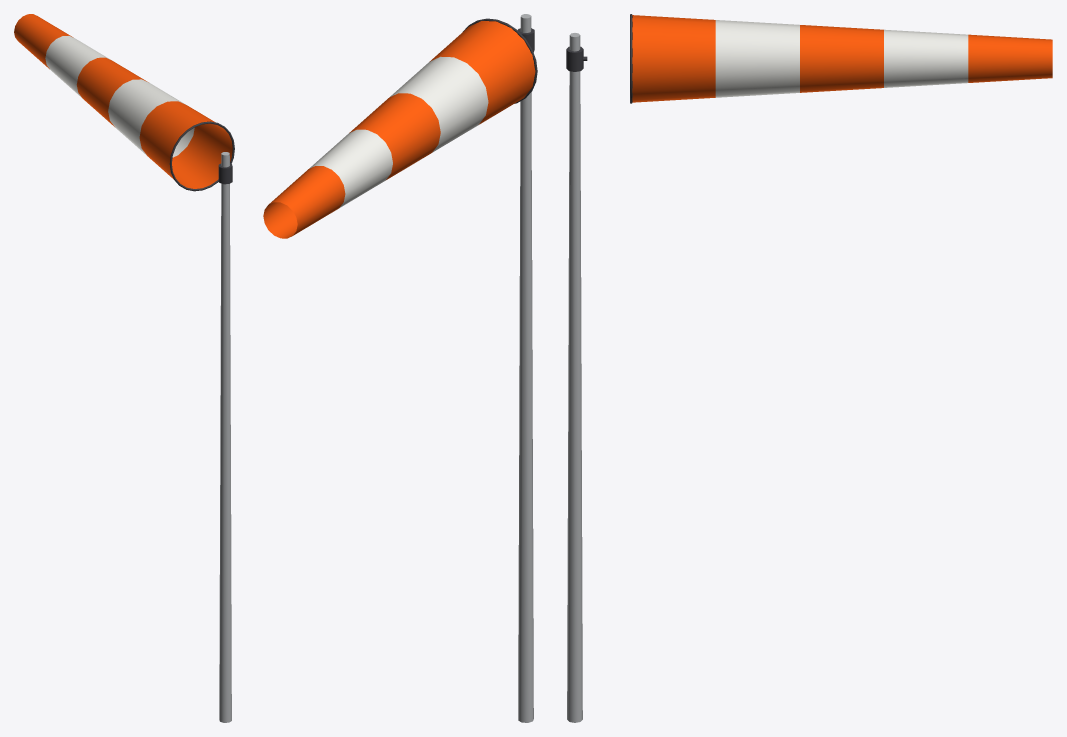
The model's file is windsock.glb.
3 views of the same model, side by side, from view 1: azimuth 30°, elevation 25°; view 2: azimuth 150°, elevation 25°; view 3: azimuth 270°, elevation 25° (orthographic). The views are drawn at different scales.
Parts seen in each view (by area): view 1: Sock, Mast; view 2: Sock, Mast; view 3: Sock, Mast.
Boxes of the visible parts, <box> form: Sock: <box>14,14,234,191</box>; Mast: <box>219,152,231,722</box>; Sock: <box>263,18,537,238</box>; Mast: <box>518,14,533,722</box>; Sock: <box>630,14,1052,103</box>; Mast: <box>567,33,582,722</box>.
Size of the model in its own units: 0.5129 by 4.41 by 2.77.
